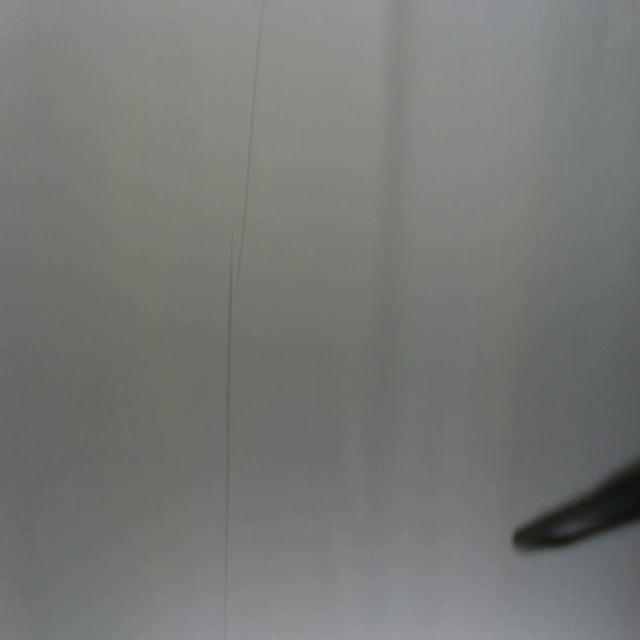crease: (237, 2, 265, 286), (221, 237, 235, 640)
